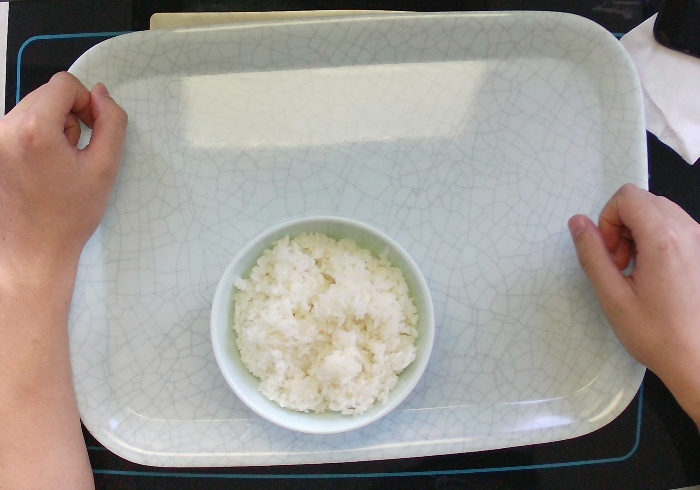JYsf-Fan_Wan: (212, 209, 435, 436)
